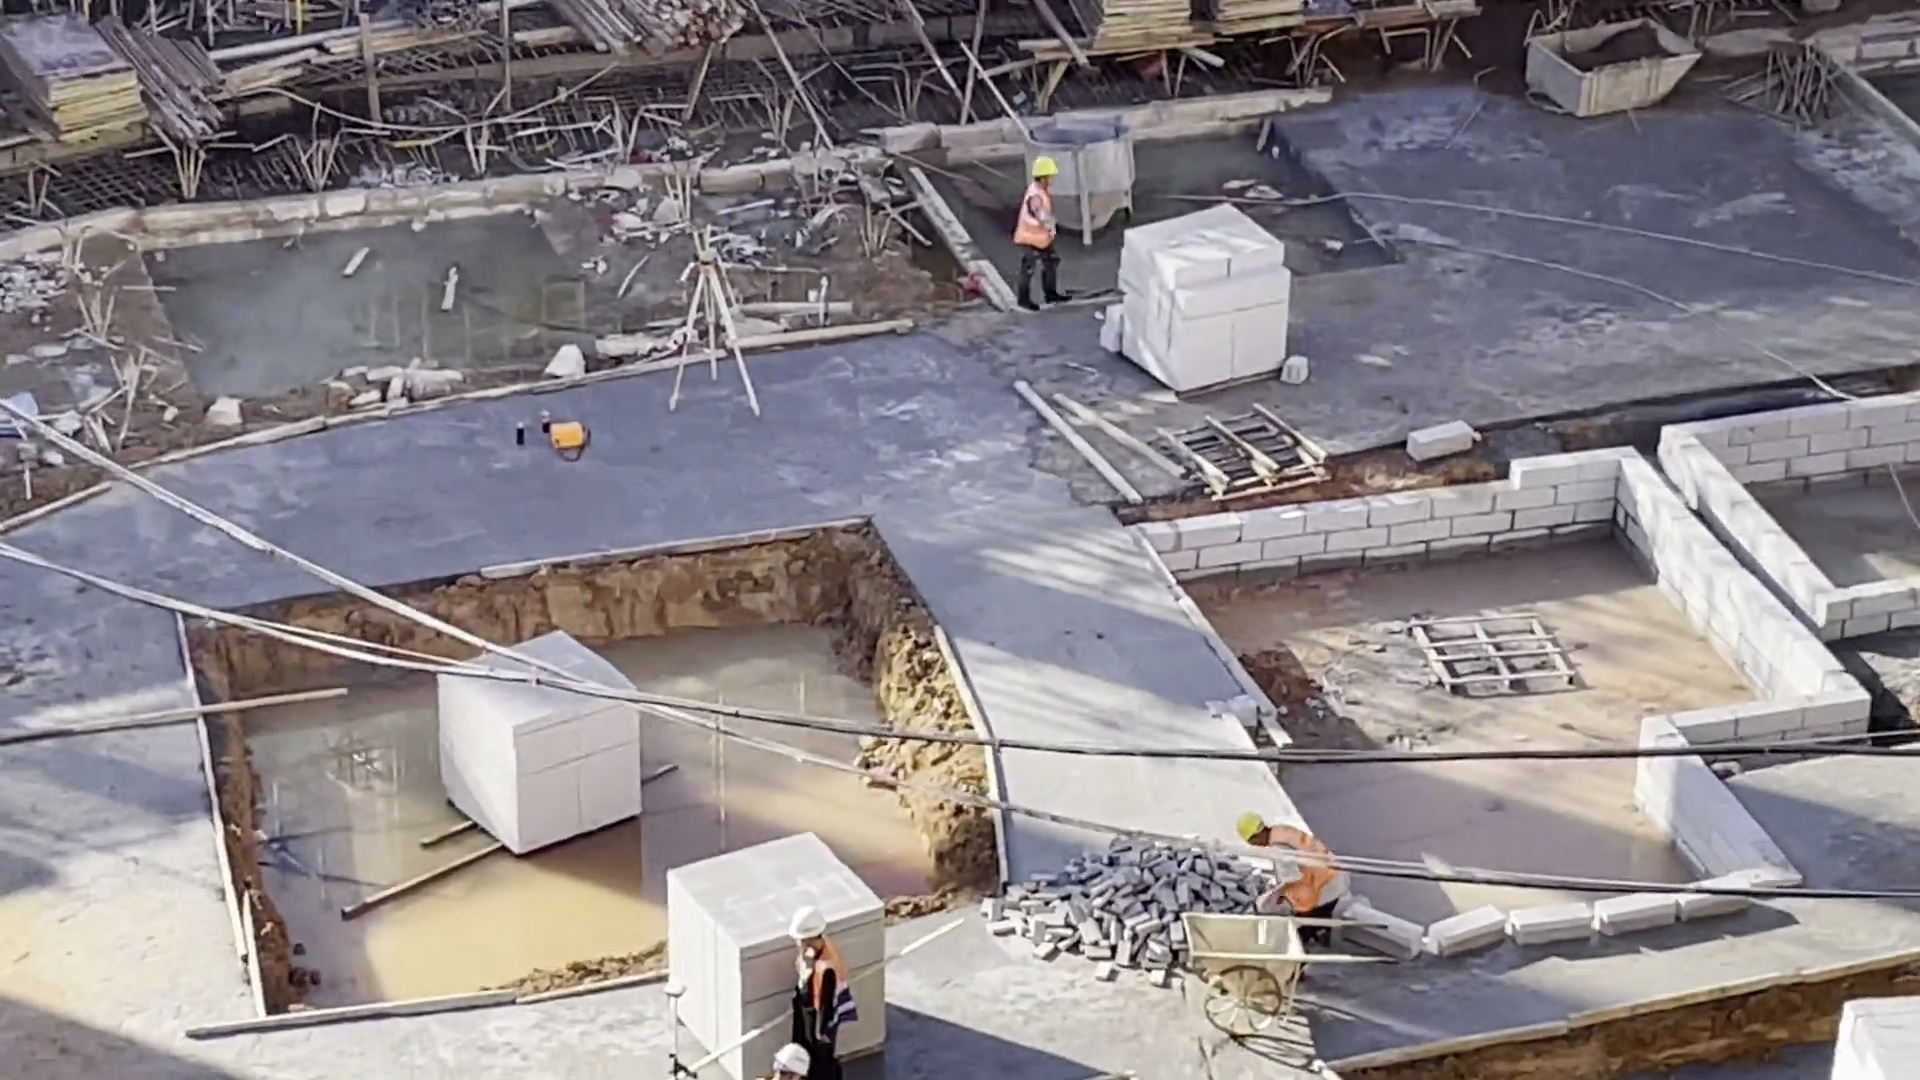board: (7, 11, 152, 146), (1066, 1, 1207, 58), (1217, 1, 1310, 39)
brick: (1104, 195, 1290, 401), (430, 697, 647, 857), (668, 830, 785, 1080)
handcart: (1181, 909, 1391, 1038)
helmet: (786, 909, 833, 941), (771, 1042, 812, 1074), (1236, 813, 1269, 846), (1029, 157, 1060, 183)
hopper: (1510, 12, 1707, 119), (1067, 111, 1128, 250)
person: (1236, 800, 1348, 919), (782, 898, 860, 1045), (1010, 154, 1080, 311)
vest: (1259, 824, 1343, 911), (788, 945, 862, 1038), (1014, 185, 1062, 254)
wood: (563, 4, 754, 63), (152, 26, 229, 156)
